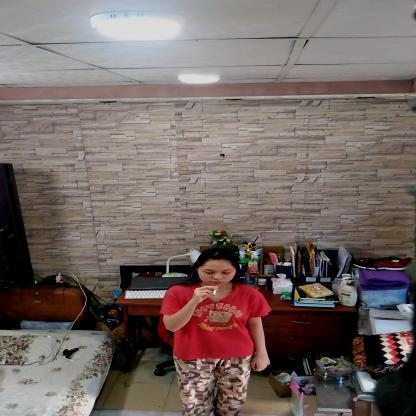cigarette: (212, 289, 217, 296)
person: (159, 248, 273, 415)
